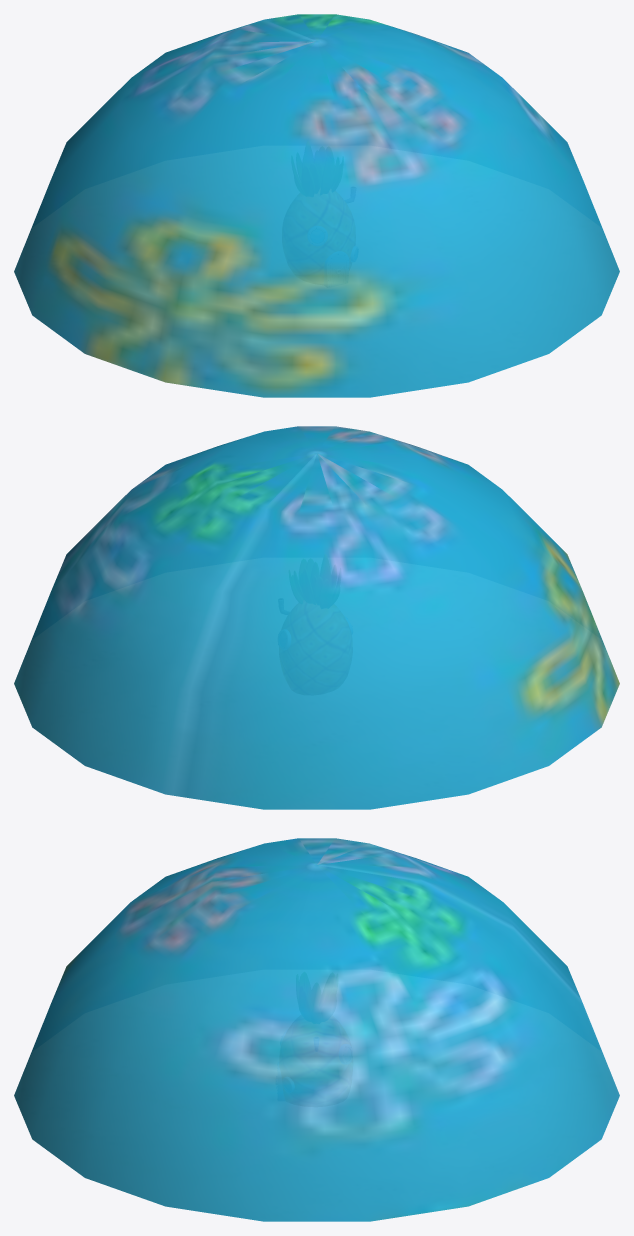
The model's file is pineapple-0.glb.
3 views of the same model, one above another, from view 1: azimuth 30°, elevation 25°; view 2: azimuth 150°, elevation 25°; view 3: azimuth 270°, elevation 25° (orthographic).
Parts seen in each view (by area): view 1: Skybox_13 - Default_0; view 2: Skybox_13 - Default_0; view 3: Skybox_13 - Default_0.
Boxes of the visible parts, bbox=[...] form: Skybox_13 - Default_0: bbox=[14, 14, 619, 397]; Skybox_13 - Default_0: bbox=[14, 426, 619, 809]; Skybox_13 - Default_0: bbox=[14, 838, 619, 1221].
Size of the model in its own units: 3.04 by 1.3 by 3.09.
Materials: 9 (5 with a texture image).
